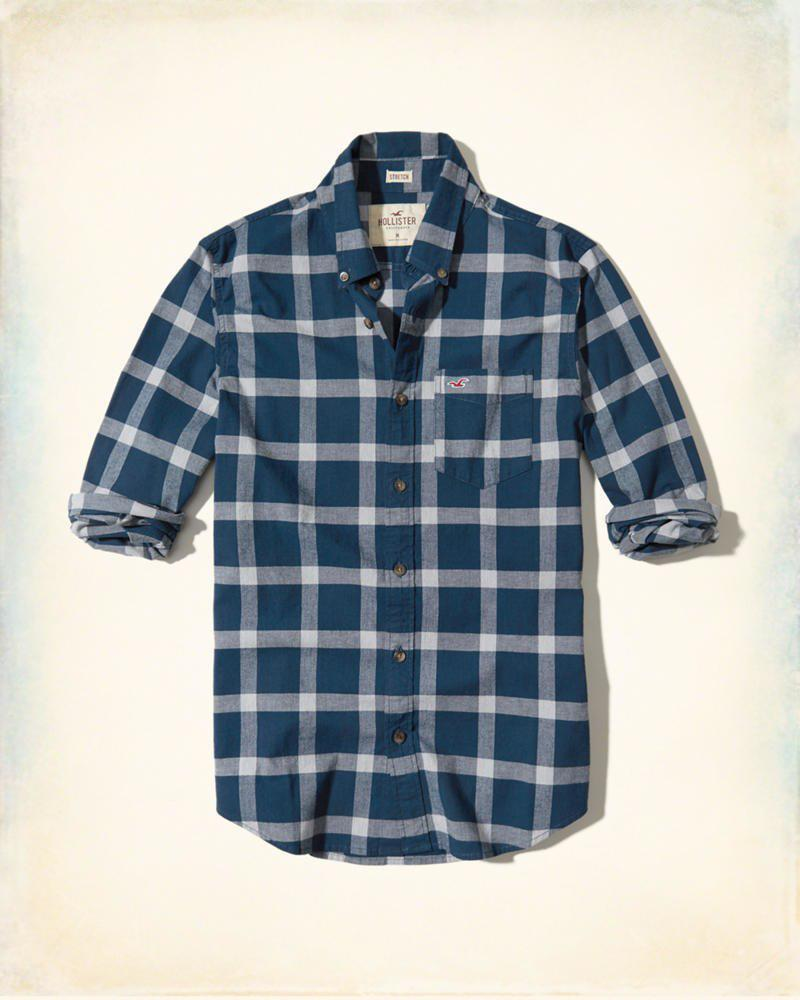teeshirt: (64, 125, 738, 872)
